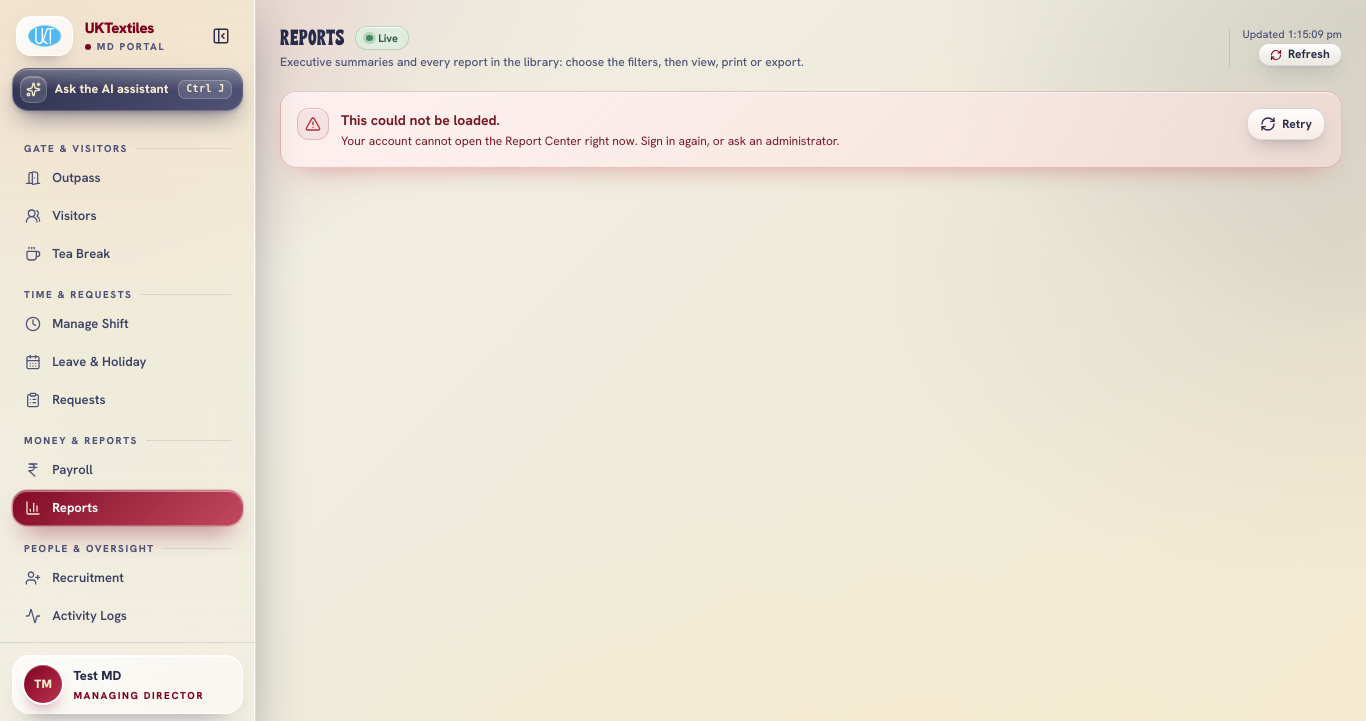
Scenario: when the catalog does not load › explains it and offers a retry that recovers
(page scrolled)
Click the button "Retry". click: click(1286, 124)
box: [1247,108,1325,140]
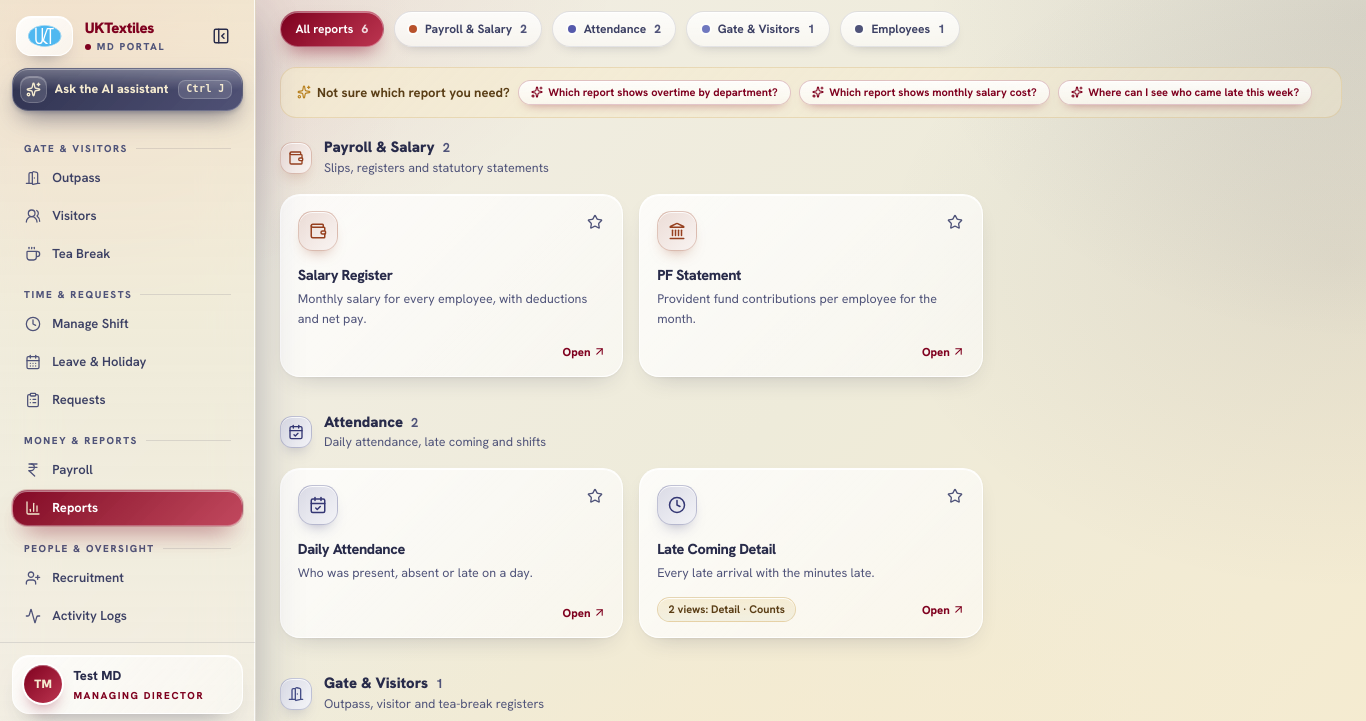
Now the message with test id "md-error" is gone
